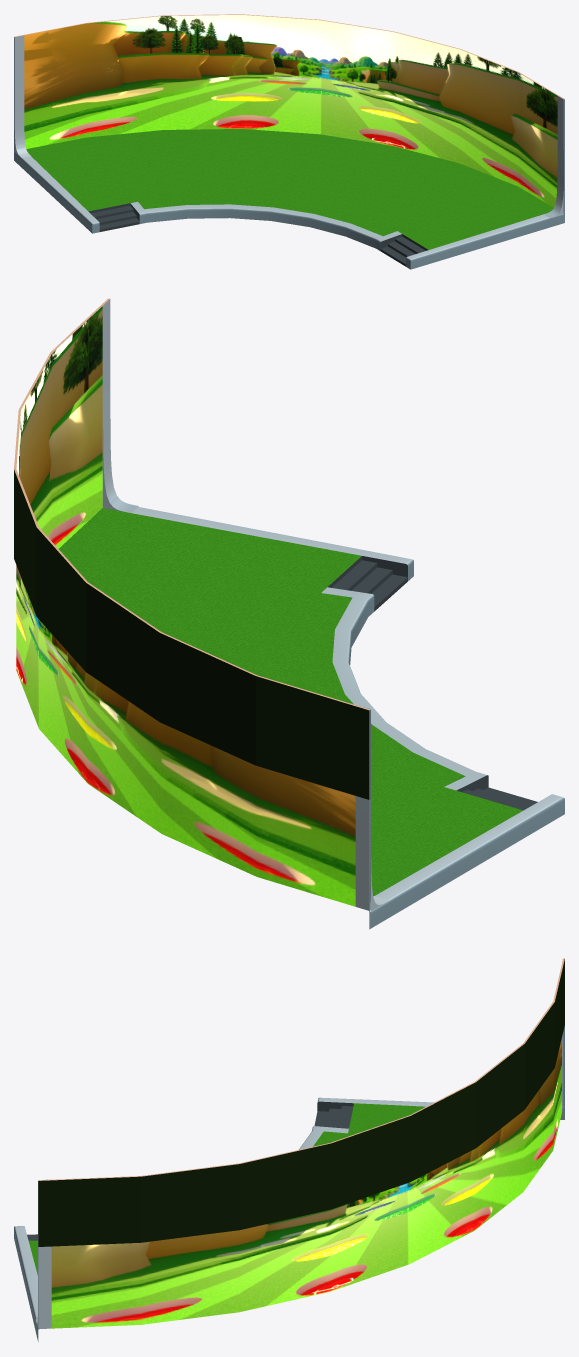
File: Training Area Frame.glb
3 views of the same model, one above another, from view 1: azimuth 30°, elevation 25°; view 2: azimuth 150°, elevation 25°; view 3: azimuth 270°, elevation 25° (orthographic). The views are drawn at different scales.
Visible parts, largest first — view 1: Training Area Frame; view 2: Training Area Frame; view 3: Training Area Frame.
Part boxes in pixels (x1,y1,x2,y2): Training Area Frame: [14, 14, 564, 269]; Training Area Frame: [14, 298, 564, 929]; Training Area Frame: [14, 958, 564, 1341].
Size of what is drawn, in the model's own units: 23.51 by 7.61 by 23.51.
3 materials, 3 textured.
